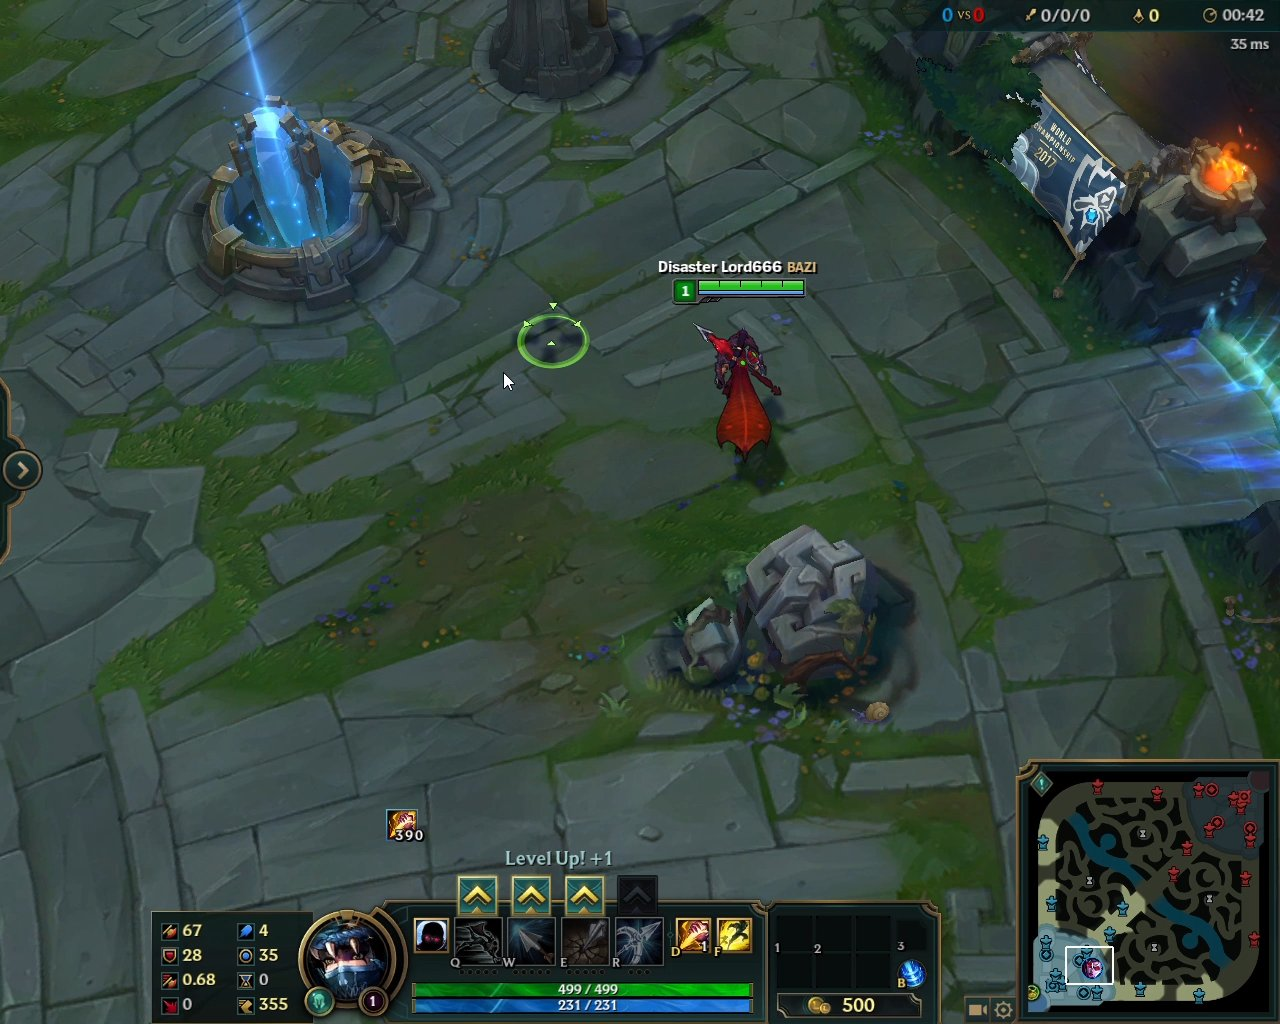Vayne: (683, 317, 792, 467)
